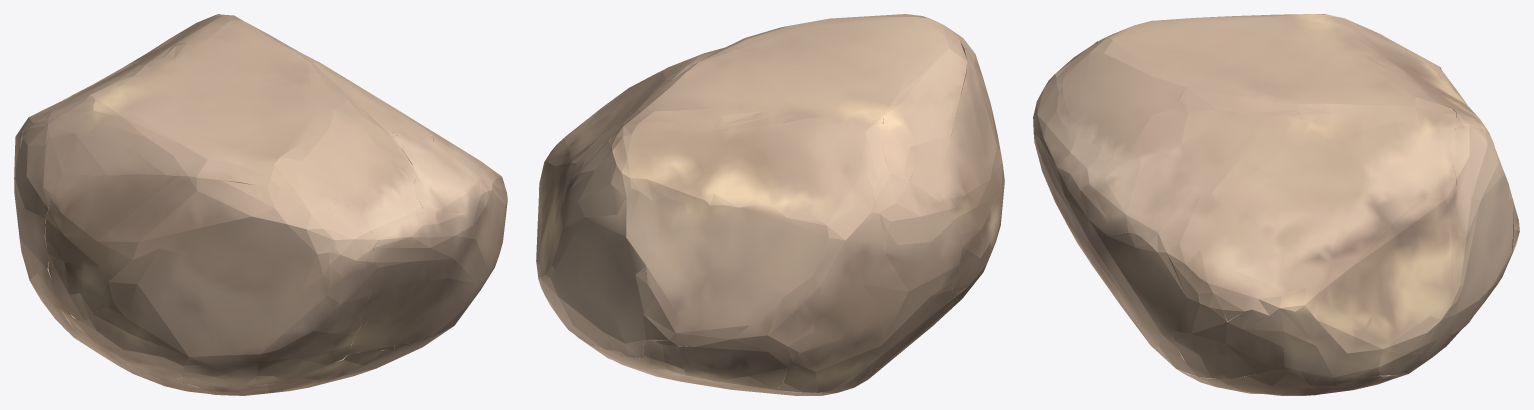
Rendered from Stone3Repo.fbx.
3 views of the same model, side by side, from view 1: azimuth 30°, elevation 25°; view 2: azimuth 150°, elevation 25°; view 3: azimuth 270°, elevation 25° (orthographic). The views are drawn at different scales.
Parts seen in each view (by area): view 1: Stone 3_Baked; view 2: Stone 3_Baked; view 3: Stone 3_Baked.
Part boxes in pixels (<box>): Stone 3_Baked: <box>14,14,507,395</box>; Stone 3_Baked: <box>536,14,1004,395</box>; Stone 3_Baked: <box>1033,14,1519,395</box>.
Bounding box in the file's own units: 31.52 × 19.05 × 32.8.
